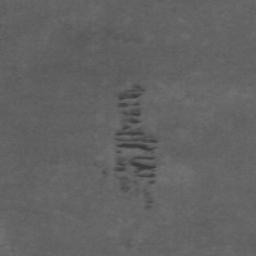Secondary rust skin: (113, 141, 159, 178), (116, 82, 147, 109), (114, 111, 145, 137)
